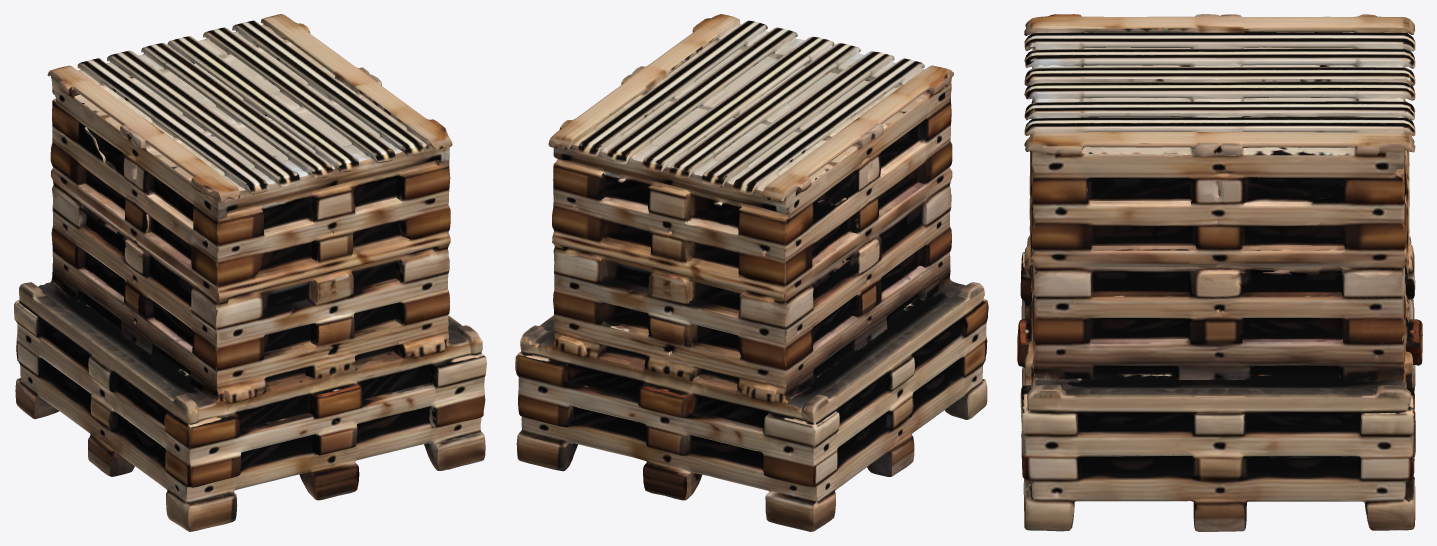
The model's file is pale_cajas.glb.
3 views of the same model, side by side, from view 1: azimuth 30°, elevation 25°; view 2: azimuth 150°, elevation 25°; view 3: azimuth 270°, elevation 25° (orthographic). The views are drawn at different scales.
Parts seen in each view (by area): view 1: tmpz8itpqqh.ply; view 2: tmpz8itpqqh.ply; view 3: tmpz8itpqqh.ply.
Boxes of the visible parts, x1=… form: tmpz8itpqqh.ply: x1=14, y1=14, x2=486, y2=531; tmpz8itpqqh.ply: x1=515, y1=14, x2=988, y2=531; tmpz8itpqqh.ply: x1=1017, y1=14, x2=1422, y2=531.
Size of the model in its own units: 0.9517 by 0.994 by 0.9814.
1 material, 1 textured.
